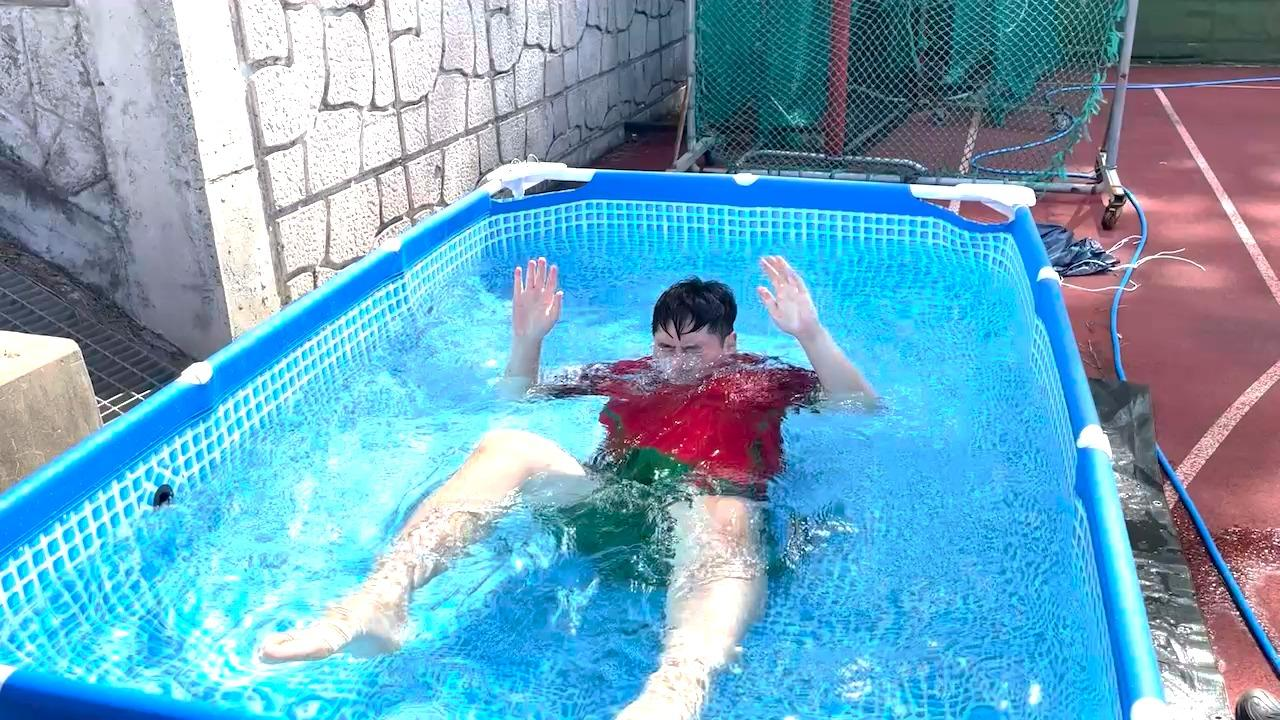Drowning: (281, 221, 866, 706)
